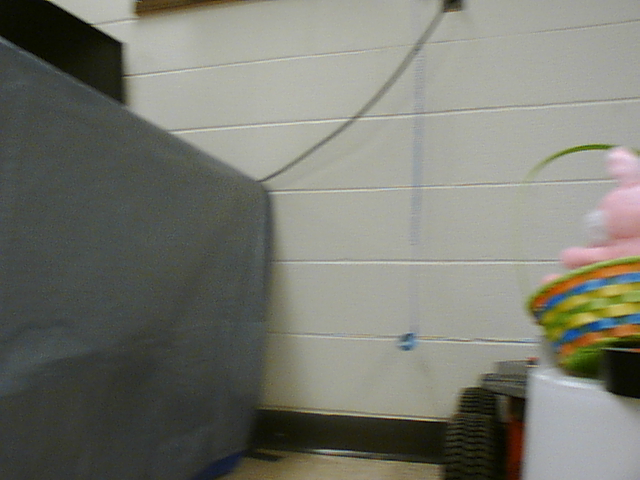bunny: (500, 141, 640, 375)
